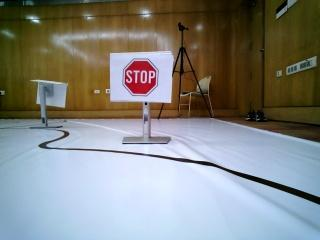stop: (114, 49, 175, 108)
